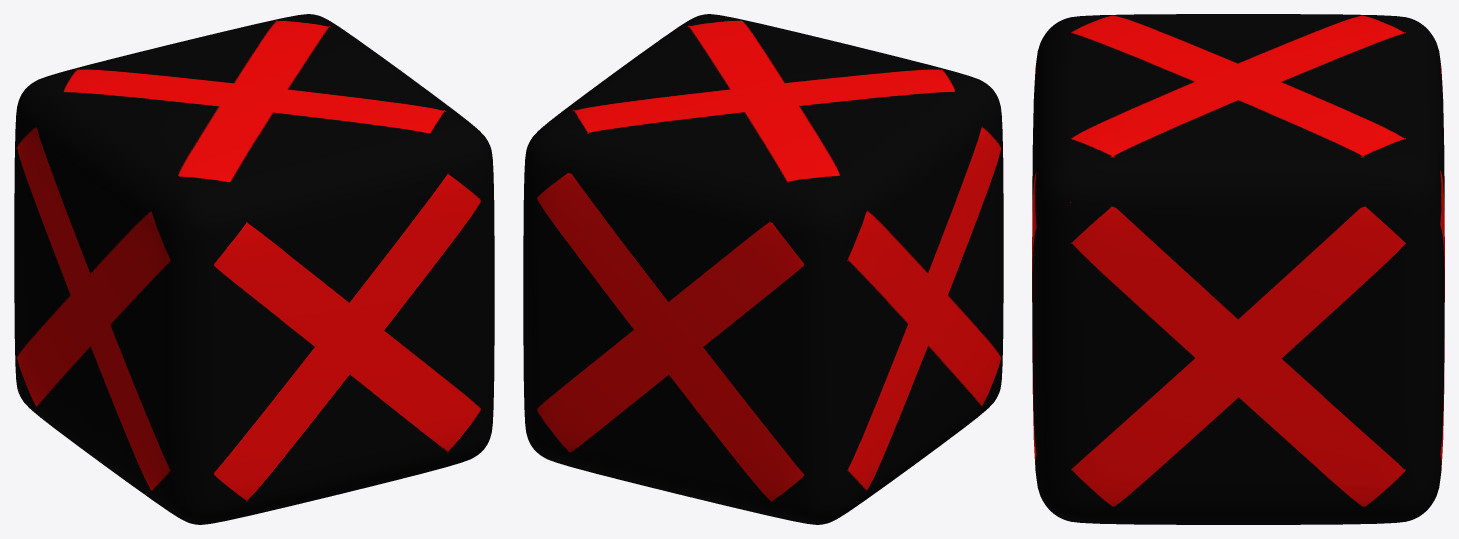
File: X_tetris_block.glb
3 views of the same model, side by side, from view 1: azimuth 30°, elevation 25°; view 2: azimuth 150°, elevation 25°; view 3: azimuth 270°, elevation 25° (orthographic). The views are drawn at different scales.
Visible parts, largest first — view 1: Cube; view 2: Cube; view 3: Cube.
Part boxes in pixels (x1,y1,x2,y2): Cube: (14,14,494,524); Cube: (523,14,1003,524); Cube: (1032,14,1444,524).
Size of the model in its own units: 2 by 2 by 2.
Materials: 1 (1 with a texture image).
